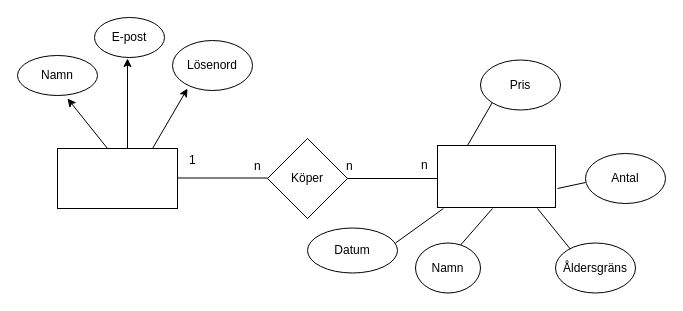
Image size: 683x311. Some labels were removed from this diagram. Each missing label, with the centre of its shape:
"Filmer" goes at (496,176).
"Kund" goes at (117,178).
